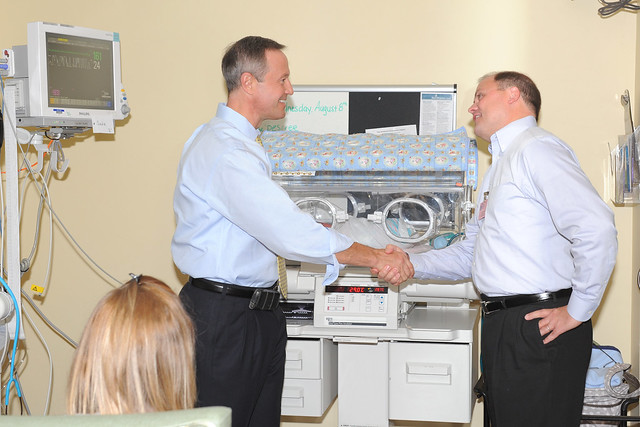person: (171, 33, 414, 427), (381, 71, 620, 427)
